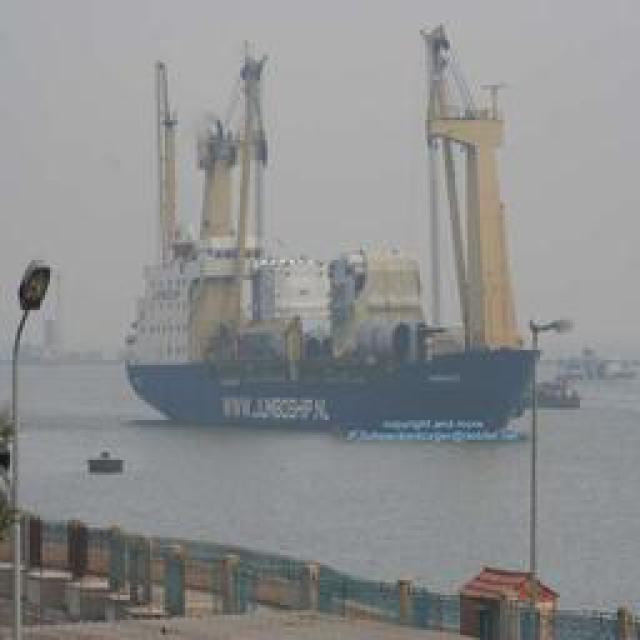Ship: (117, 224, 547, 432)
